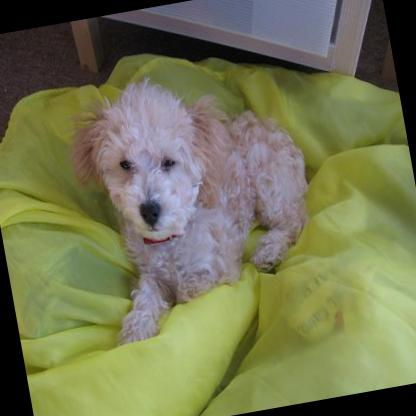toy_poodle: (60, 44, 330, 344)
